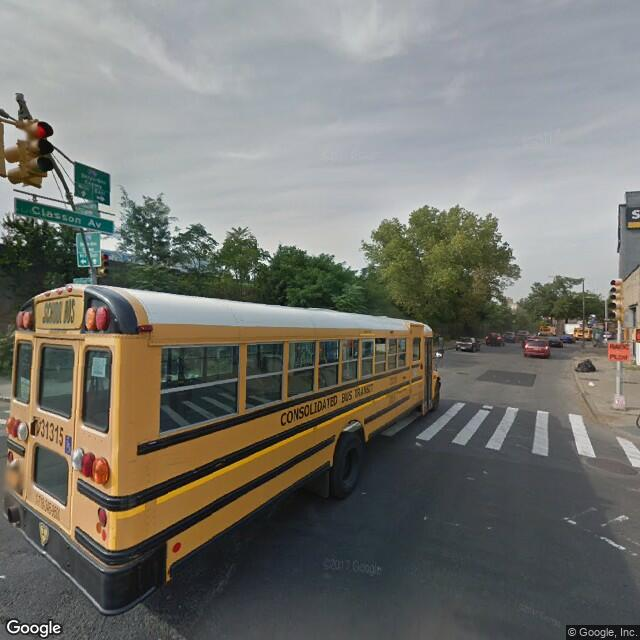litter: (576, 358, 599, 377), (580, 381, 607, 390)
